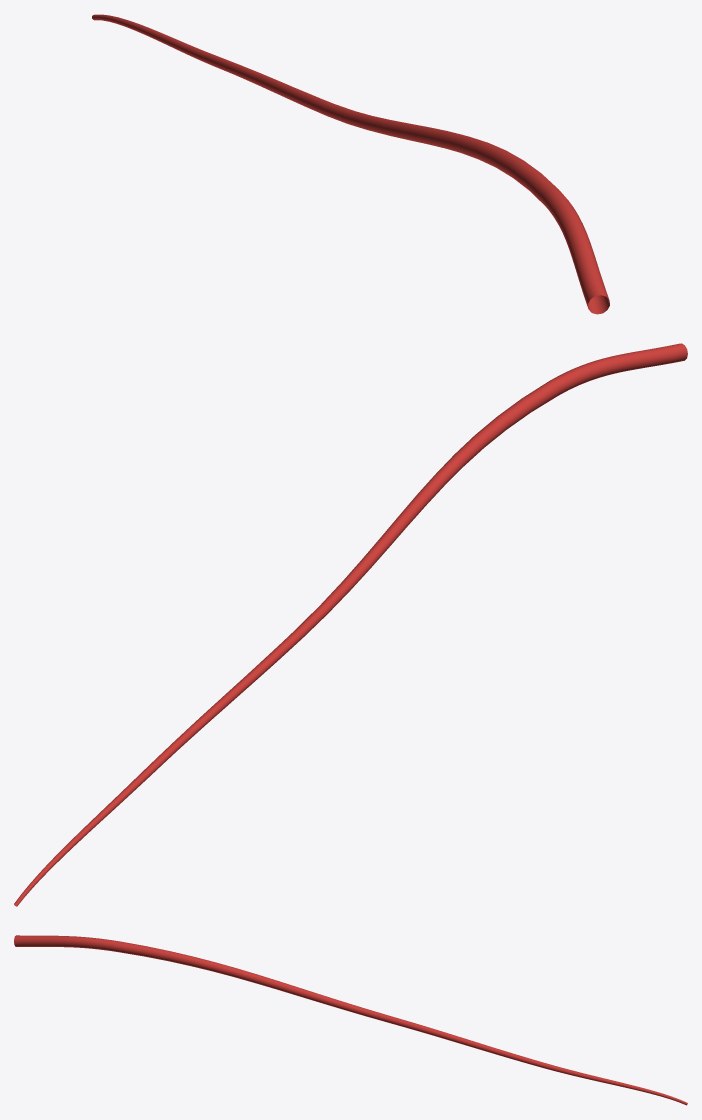
The picture shows the model from 3 angles, top to bottom: view 1: azimuth 30°, elevation 25°; view 2: azimuth 150°, elevation 25°; view 3: azimuth 270°, elevation 25°; orthographic projection. The views are drawn at different scales.
Visible parts, largest first — view 1: 左侧骨间后动脉; view 2: 左侧骨间后动脉; view 3: 左侧骨间后动脉.
Boxes of the visible parts, left/top/right/bottom form: 左侧骨间后动脉: left=92, top=14, right=609, bottom=314; 左侧骨间后动脉: left=14, top=343, right=687, bottom=906; 左侧骨间后动脉: left=14, top=935, right=687, bottom=1105.
Bounding box in the file's own units: 0.0278 × 0.041 × 0.182.
